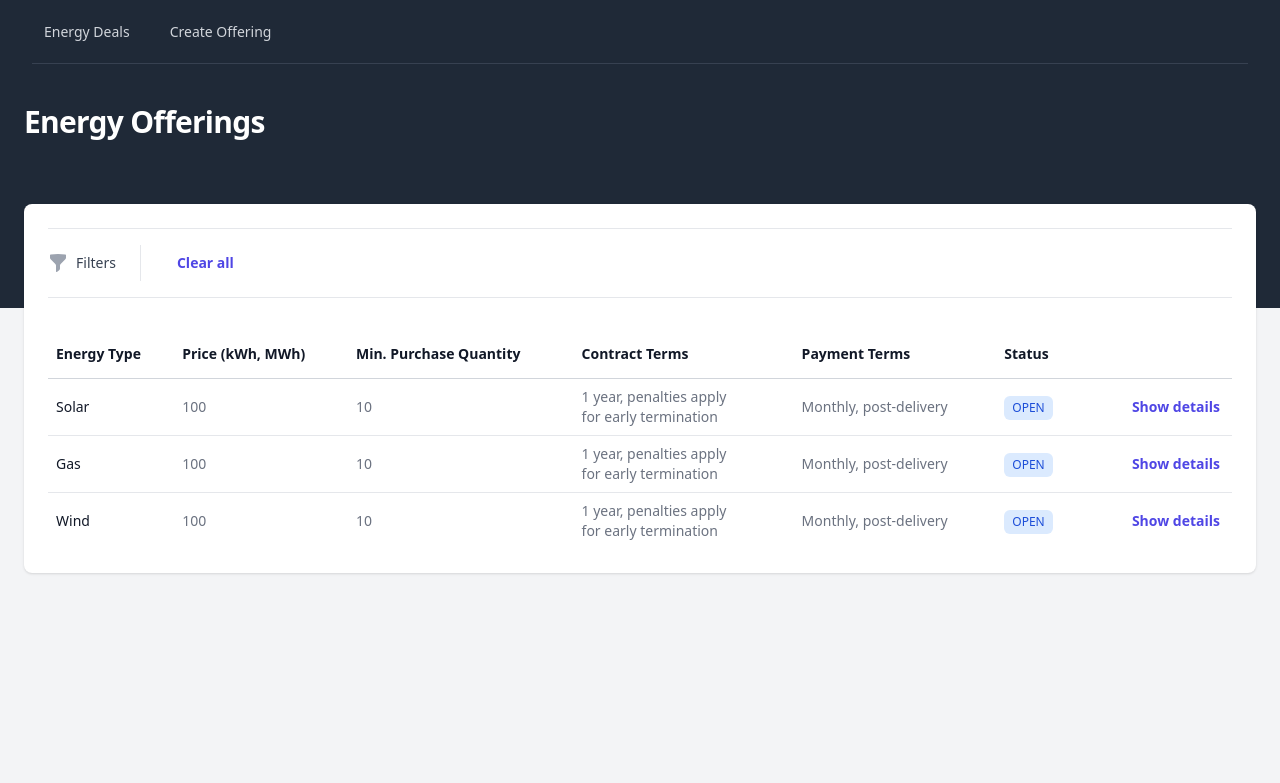
Test case: [pages]: EnergyOfferingList › should show info message when filtering has no results
Click the button "Filters".
click(82, 263)  # box [48,253,116,273]
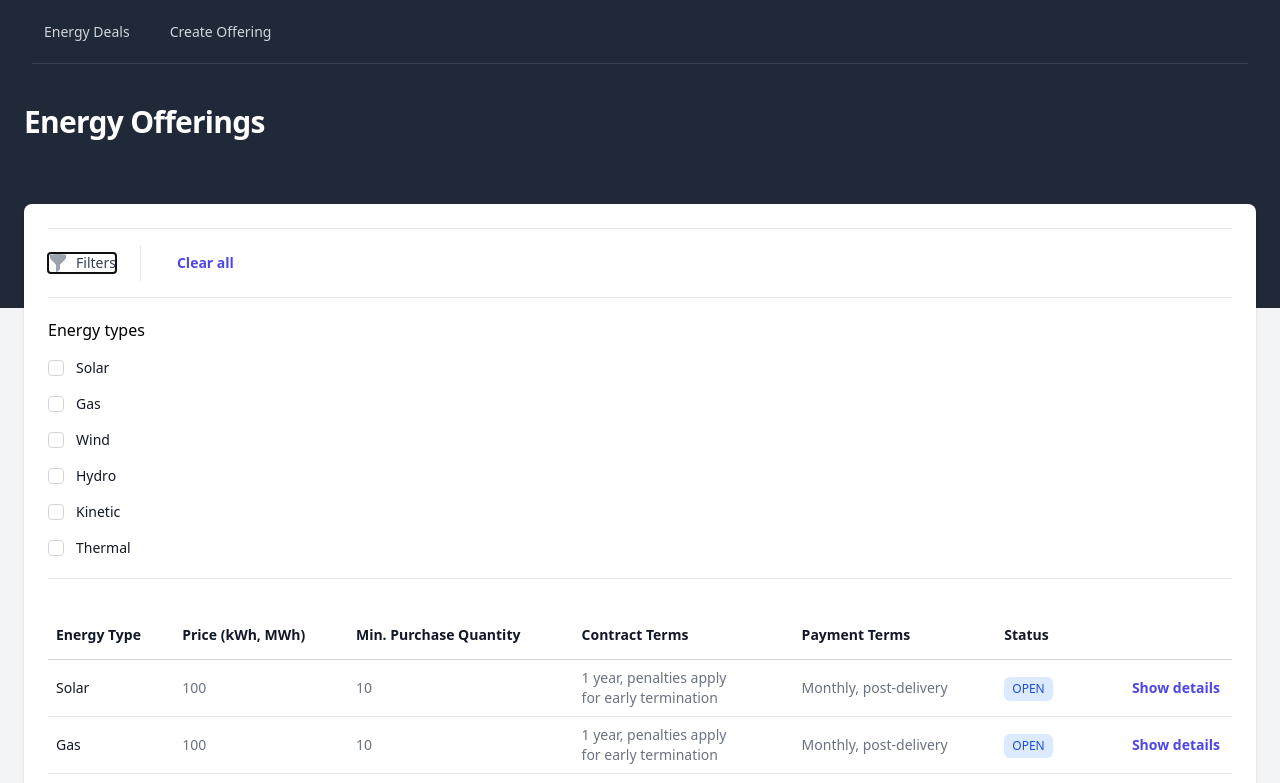
Click the text "Thermal".
click(103, 548)  # box [76,538,131,557]
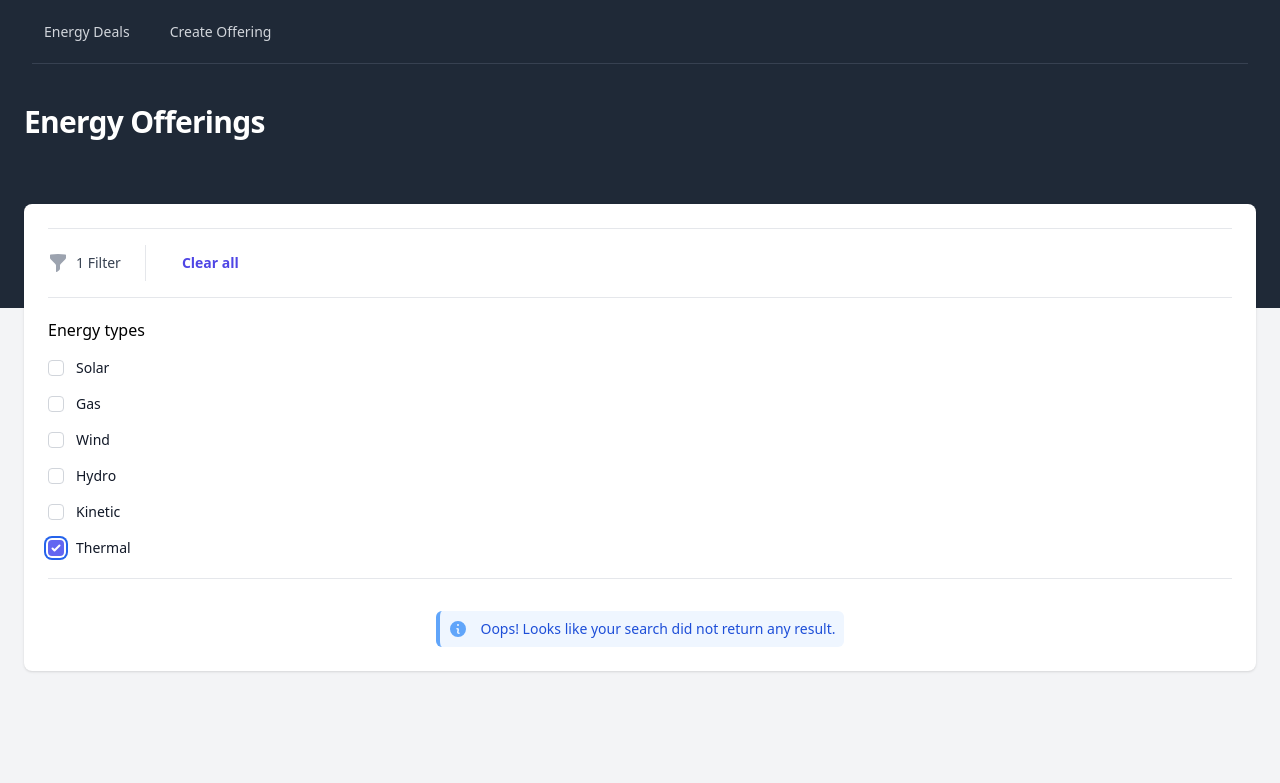
Expected: the text "Oops! Looks like your search did not return any result." is shown, [480,619,836,639]
